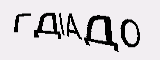І: (57, 10, 66, 40)
